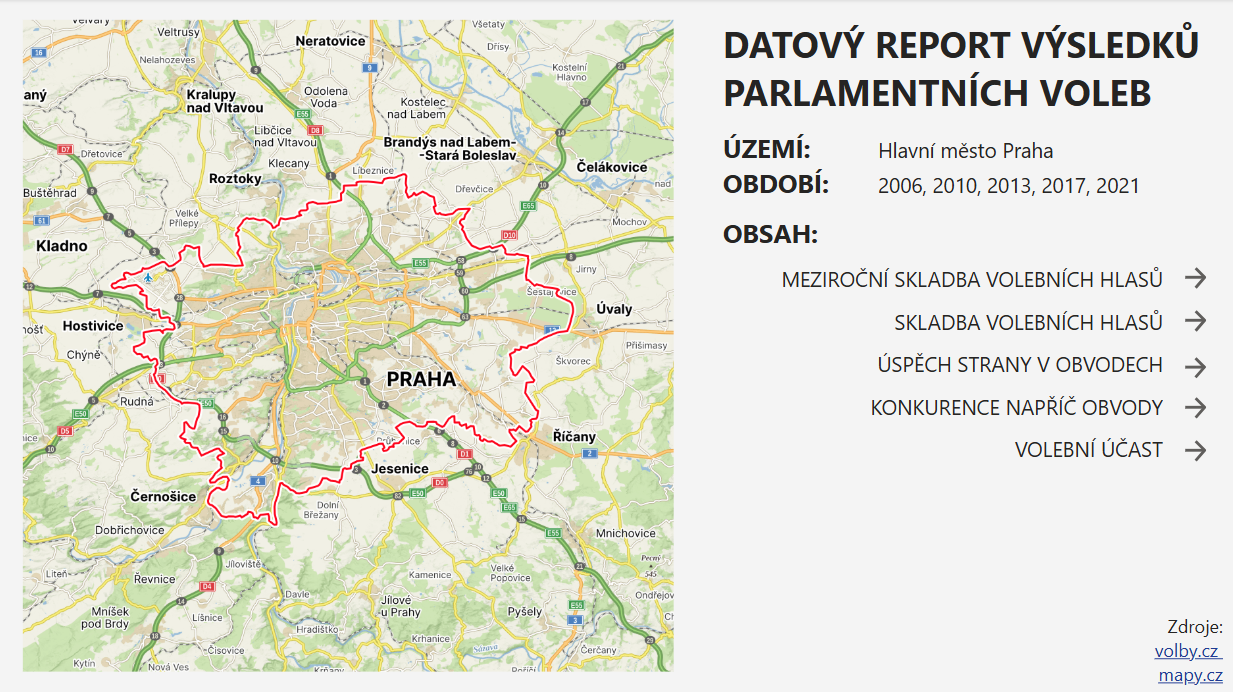

The dashboard page shown, as its layout file describes it:
{"tool":"powerbi","page":{"name":"Výchozí","canvas":[1280,720],"ordinal":0},"visuals":[{"type":"textbox","box":[925.6,632.2,345.6,87.8],"z":0},{"type":"textbox","box":[743.3,17,524.8,113.7],"z":1000},{"type":"actionButton","box":[1221.7,273.3,52,31],"z":2000},{"type":"actionButton","box":[1221.7,318.3,52,31],"z":3000},{"type":"actionButton","box":[1221.6,366.4,52.1,30.7],"z":4000},{"type":"image","box":[18.8,17,684.2,685.1],"z":5000},{"type":"textbox","box":[743.3,130.7,465.7,374.3],"z":6000},{"type":"actionButton","box":[1221.5,408.4,51.9,31.3],"z":7000},{"type":"actionButton","box":[1221.5,452.2,51.9,31.3],"z":8000}]}

Visuals, with their boxes in screenshot pixels (x1, y1, x2, y2), scaled from the page's 1280x720 canvas onto the 1233x692 screenshot:
textbox: (892, 608, 1225, 691)
textbox: (716, 16, 1222, 126)
actionButton: (1177, 263, 1227, 292)
actionButton: (1177, 306, 1227, 336)
actionButton: (1177, 352, 1227, 382)
image: (18, 16, 677, 675)
textbox: (716, 126, 1165, 485)
actionButton: (1177, 393, 1227, 423)
actionButton: (1177, 435, 1227, 465)
